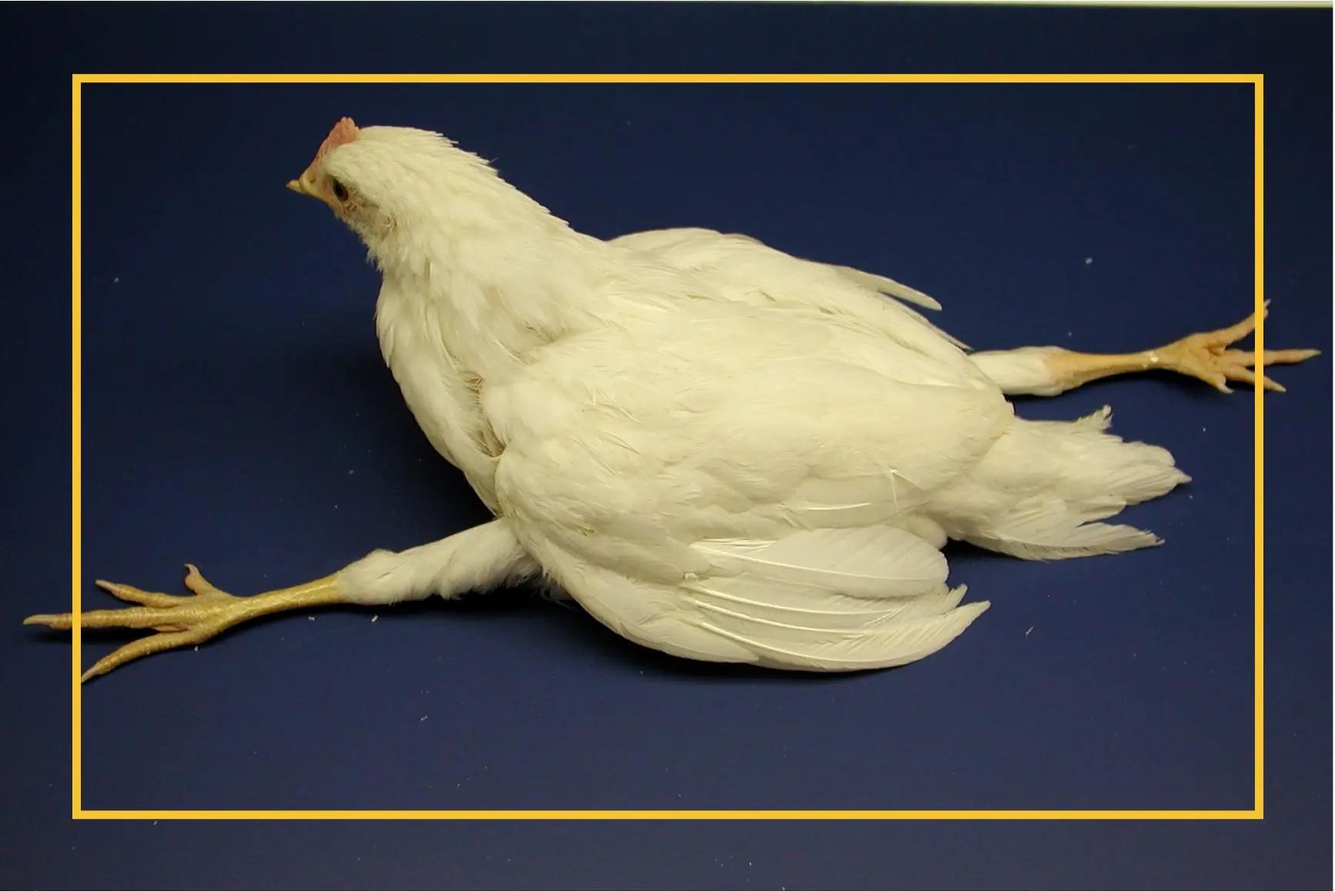AbNormal: (87, 99, 1248, 778)
